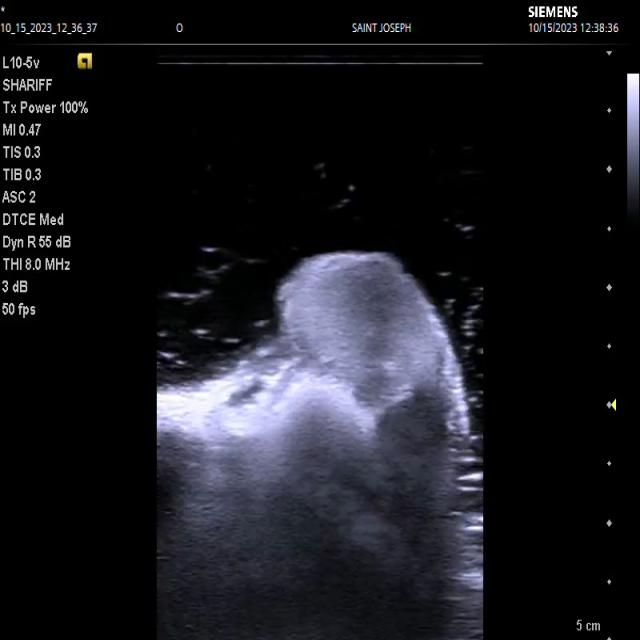tissue: (155, 252, 478, 640)
